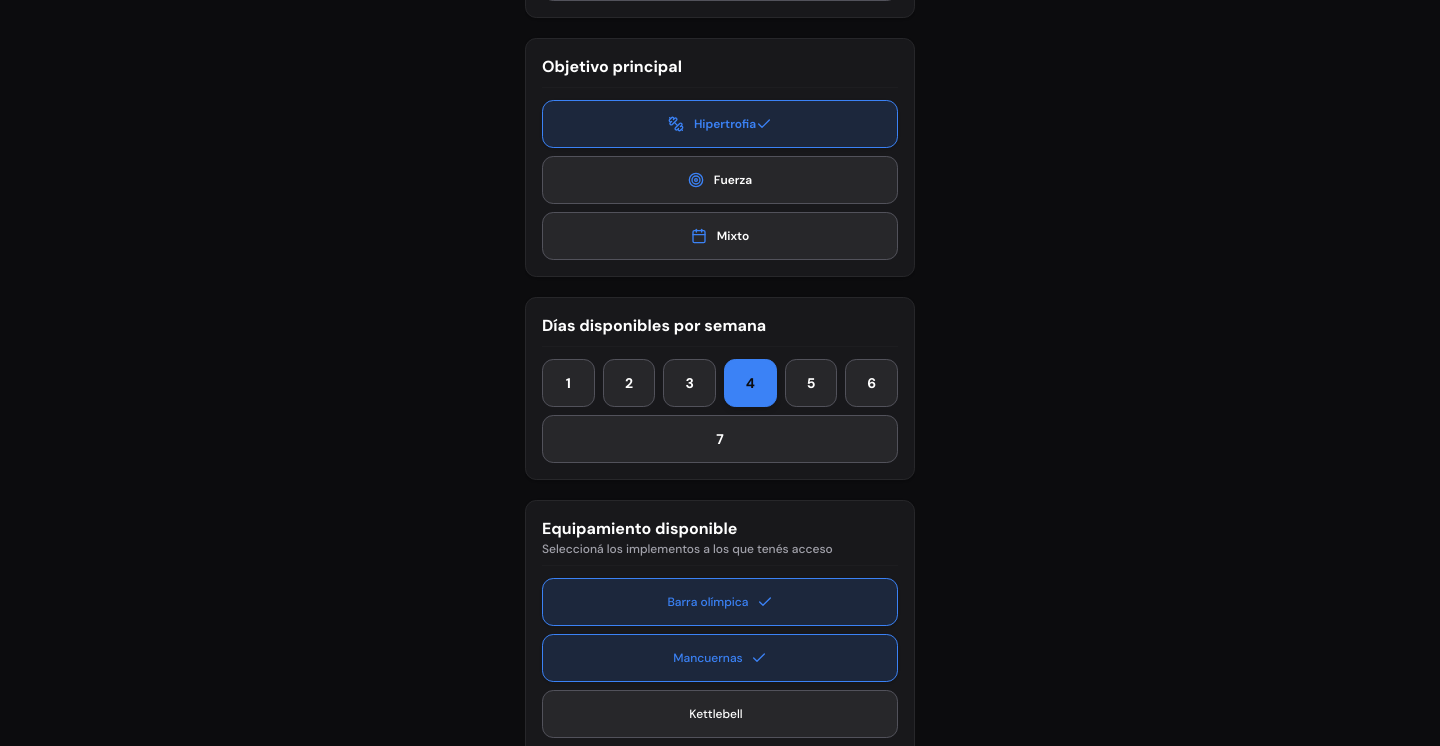
Scenario: TASK-38: ProfilePage.tsx — Weight Tracking & Availability Change Warning (RF-01, RF-02, RF-09, Constitución Art. 2) › Advertencia de cambio de disponibilidad con mesociclo activo (RF-09 CA-09.1) › should open pedagogical warning modal when attempting to alter days while mesocycle is active
(page scrolled)
Note: Current days is 4. Click day 5
Click the button "5" at {"x": 811, "y": 383}, box [785, 359, 837, 407]
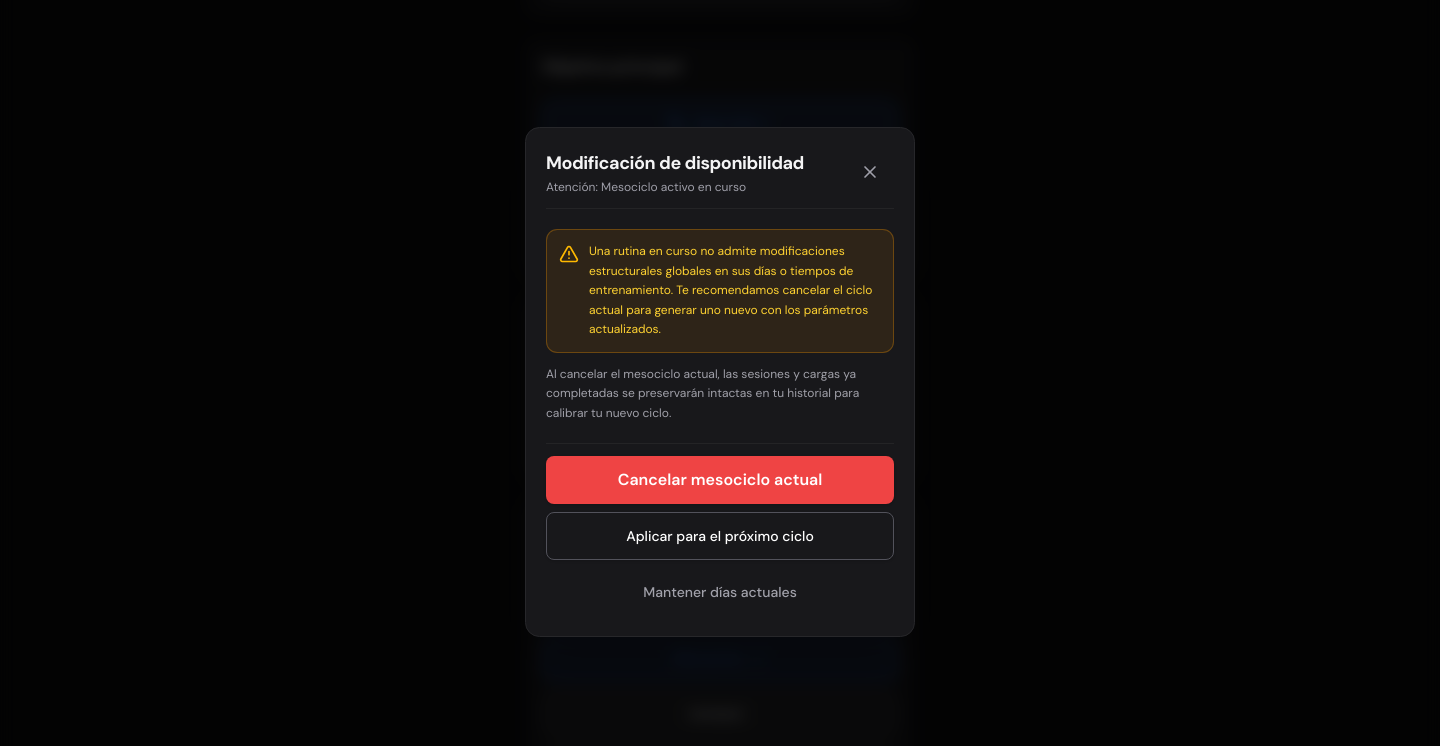
expect the heading "Modificación de disponibilidad" is shown: met, box [546, 149, 804, 177]
expect the text "una rutina en curso no admite modificaciones estructurales globales en sus días o tiempos de entrenamiento" is shown: met, box [589, 243, 872, 337]
expect the button "Cancelar mesociclo actual" is shown: met, box [546, 456, 894, 504]
